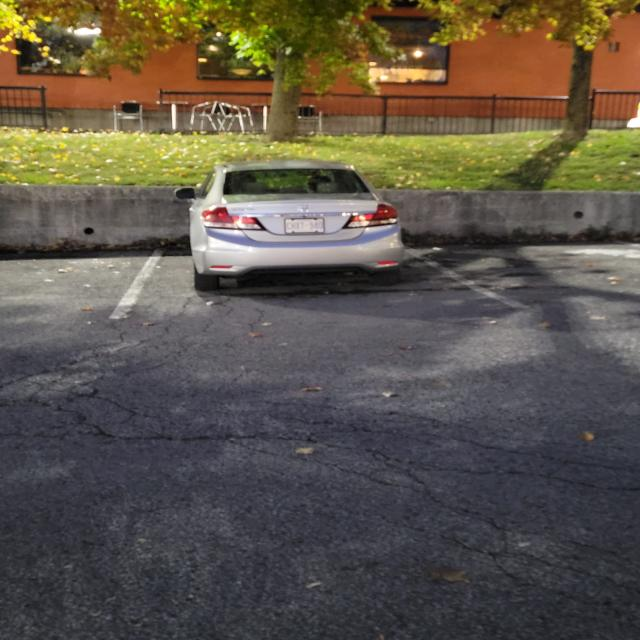plaque: (285, 218, 324, 233)
